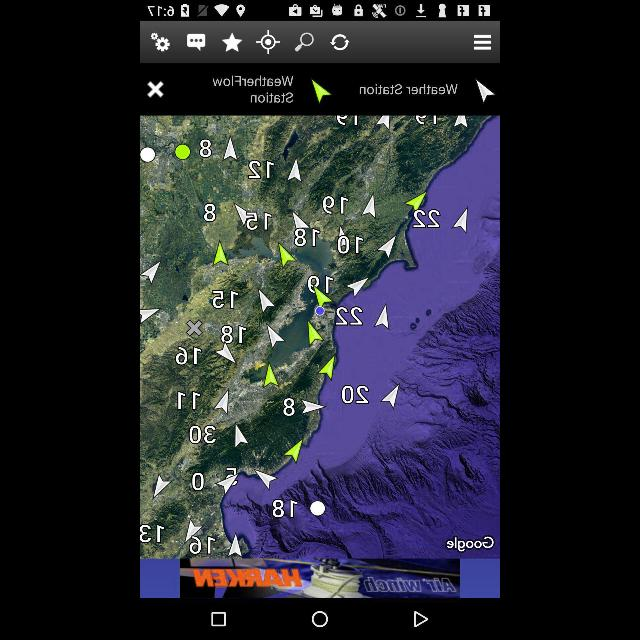icon: (256, 31, 280, 54), (222, 32, 242, 52), (294, 32, 314, 52), (151, 33, 169, 51), (330, 35, 350, 51), (312, 610, 328, 628), (187, 34, 205, 50), (147, 81, 163, 97), (414, 610, 428, 628), (474, 35, 491, 49), (212, 612, 226, 626)
image: (180, 558, 460, 598), (475, 80, 495, 104), (310, 79, 330, 103)
map: (140, 116, 500, 558)
panel: (140, 598, 500, 640)
text: (213, 76, 293, 102), (360, 84, 458, 94)
toolbar: (140, 21, 500, 63)
uppertaskbar: (140, 0, 500, 20)
